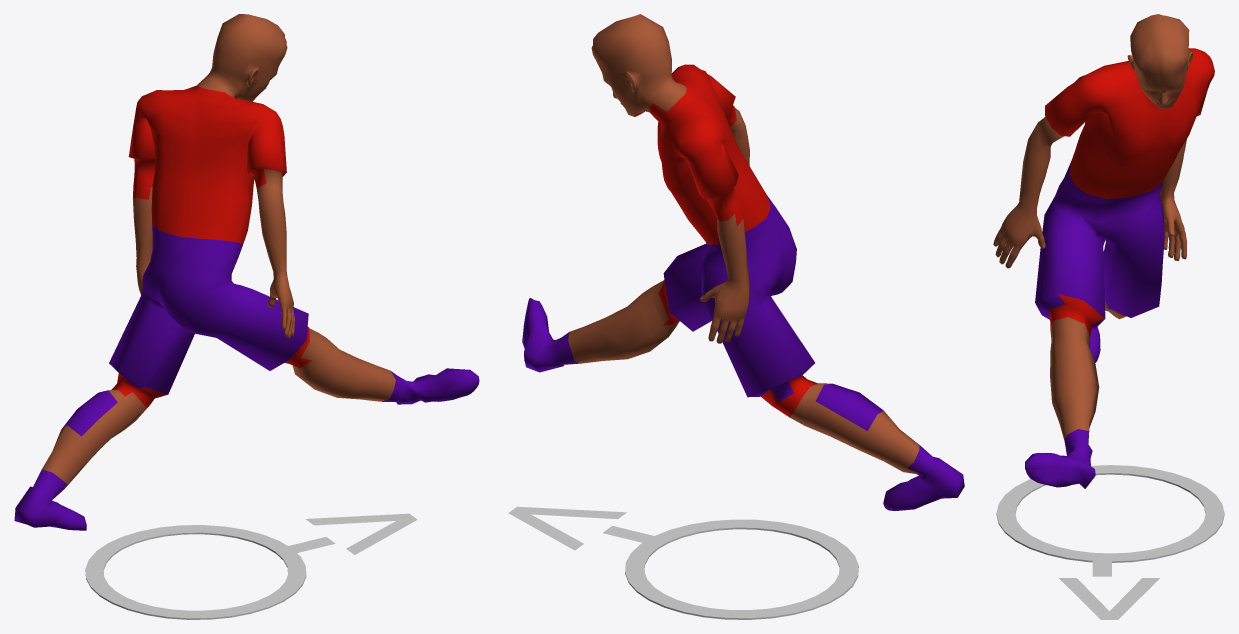
Rendered from player_000031.obj.
3 views of the same model, side by side, from view 1: azimuth 30°, elevation 25°; view 2: azimuth 150°, elevation 25°; view 3: azimuth 270°, elevation 25° (orthographic). The views are drawn at different scales.
Parts seen in each view (by area): view 1: soccerplayer.002_mesh.003, Circle, Text.001_Mesh.001; view 2: soccerplayer.002_mesh.003, Circle, Text.001_Mesh.001; view 3: soccerplayer.002_mesh.003, Circle, Text.001_Mesh.001.
Part boxes in pixels (box(x1,y1,x2,y2)): soccerplayer.002_mesh.003: box(14, 14, 479, 530); Circle: box(85, 525, 306, 619); Text.001_Mesh.001: box(284, 513, 417, 554); soccerplayer.002_mesh.003: box(522, 14, 964, 510); Circle: box(625, 519, 858, 619); Text.001_Mesh.001: box(508, 506, 657, 550); soccerplayer.002_mesh.003: box(993, 14, 1214, 488); Circle: box(996, 465, 1224, 562); Text.001_Mesh.001: box(1059, 555, 1159, 619).
Size of the model in its own units: 2.47 by 2.83 by 1.1.
